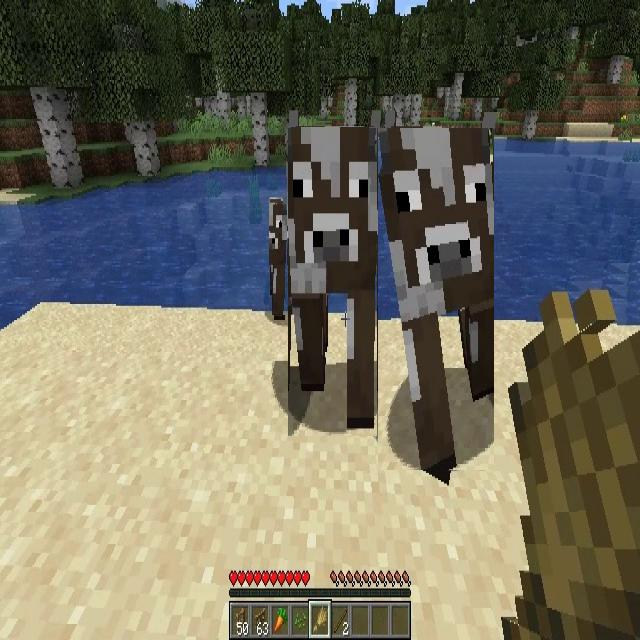cow: (378, 128, 494, 470), (288, 127, 377, 436), (270, 197, 288, 315)
